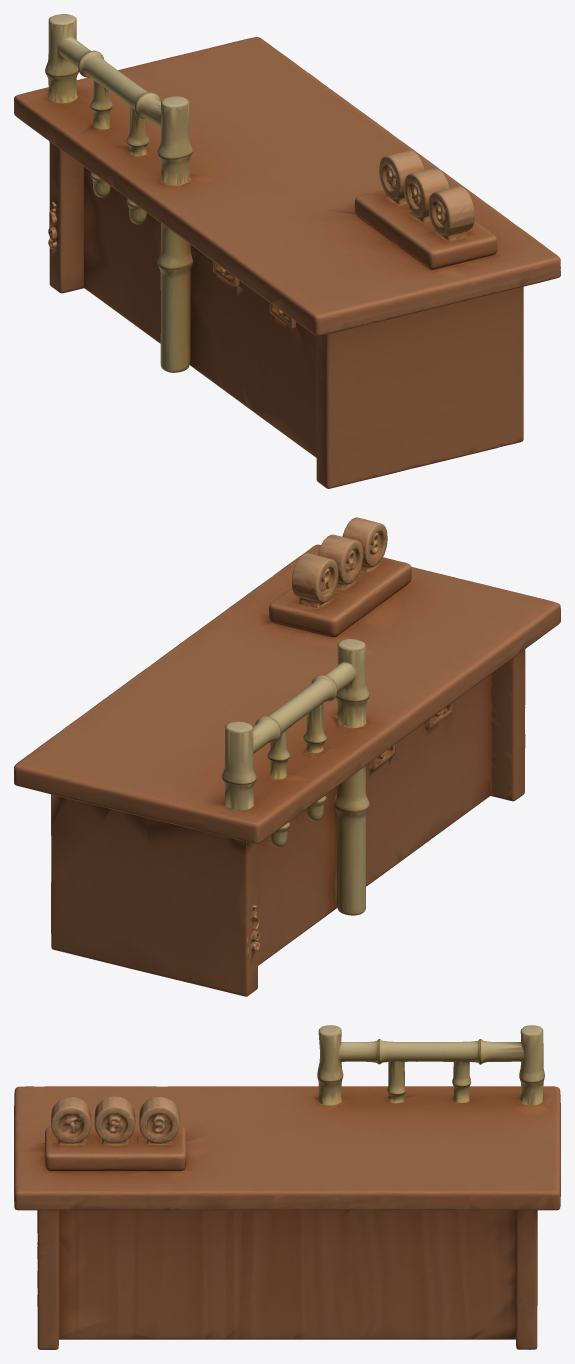
The model's file is JP_사물_s2_counter_takeout_old.glb.
3 renders of one model, top to bottom at view 1: azimuth 30°, elevation 25°; view 2: azimuth 150°, elevation 25°; view 3: azimuth 270°, elevation 25°, orthographic. The views are drawn at different scales.
Parts seen in each view (by area): view 1: tripo_node_1d1c50f9-b5dd-48a0-89a9-eaeaf2fd51af; view 2: tripo_node_1d1c50f9-b5dd-48a0-89a9-eaeaf2fd51af; view 3: tripo_node_1d1c50f9-b5dd-48a0-89a9-eaeaf2fd51af.
Boxes of the visible parts, <box> form: tripo_node_1d1c50f9-b5dd-48a0-89a9-eaeaf2fd51af: <box>14,14,560,488</box>; tripo_node_1d1c50f9-b5dd-48a0-89a9-eaeaf2fd51af: <box>14,517,560,996</box>; tripo_node_1d1c50f9-b5dd-48a0-89a9-eaeaf2fd51af: <box>14,1025,560,1349</box>.
Size of the model in its own units: 0.4669 by 0.4842 by 0.9999.
Materials: 1 (1 with a texture image).
